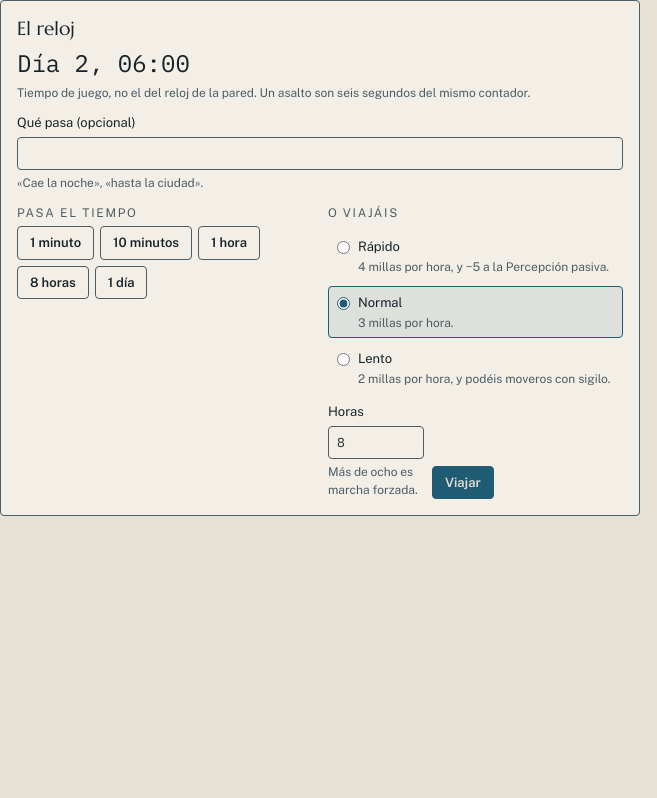
Test: las salvaciones de marcha forzada se piden › **una petición por salvación y por personaje**, cada una con SU CD
Click the button "Viajar".
click(463, 483)  # box [432,466,494,499]
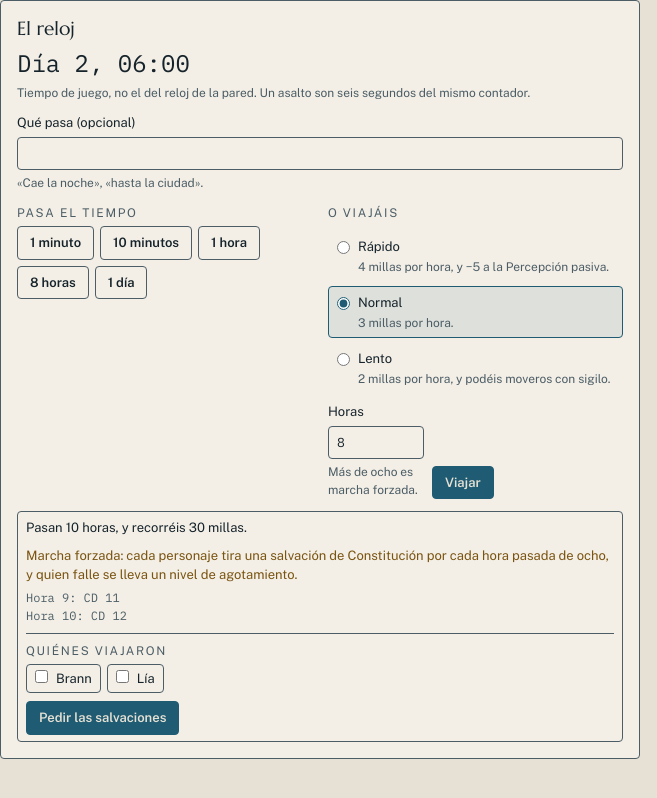
Check: the list item "Hora 9: CD 11" is shown, box [26,590,120,605]
Click the checkbox labelled "Brann".
click(42, 676)  # box [35,670,48,683]
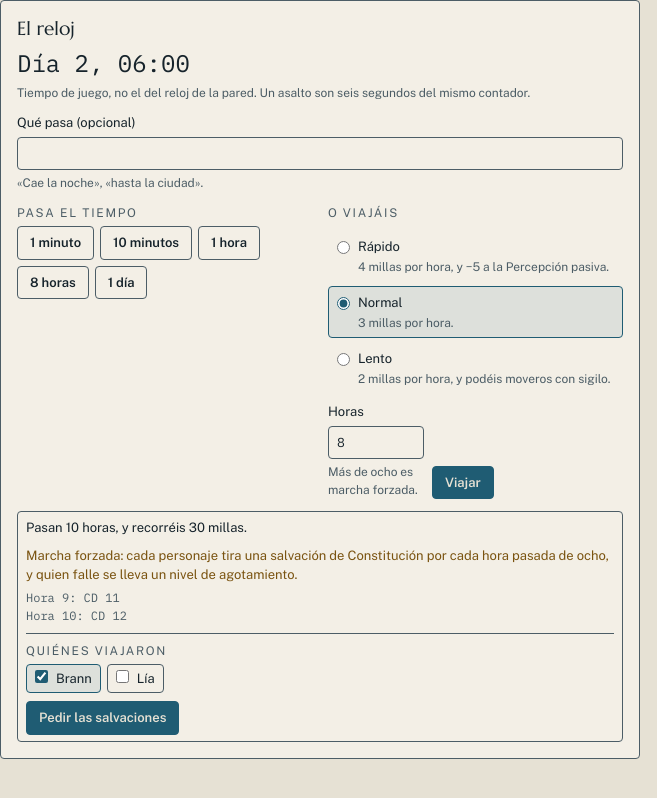
Click the checkbox labelled "Lía".
click(122, 676)  # box [116,670,129,683]
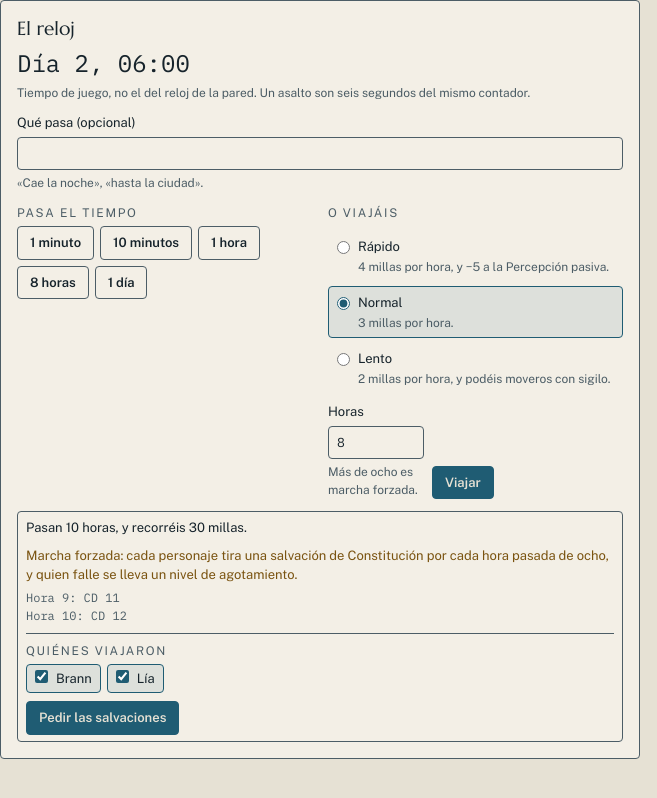
Click the button "Pedir las salvaciones".
click(103, 718)  # box [26,701,179,735]
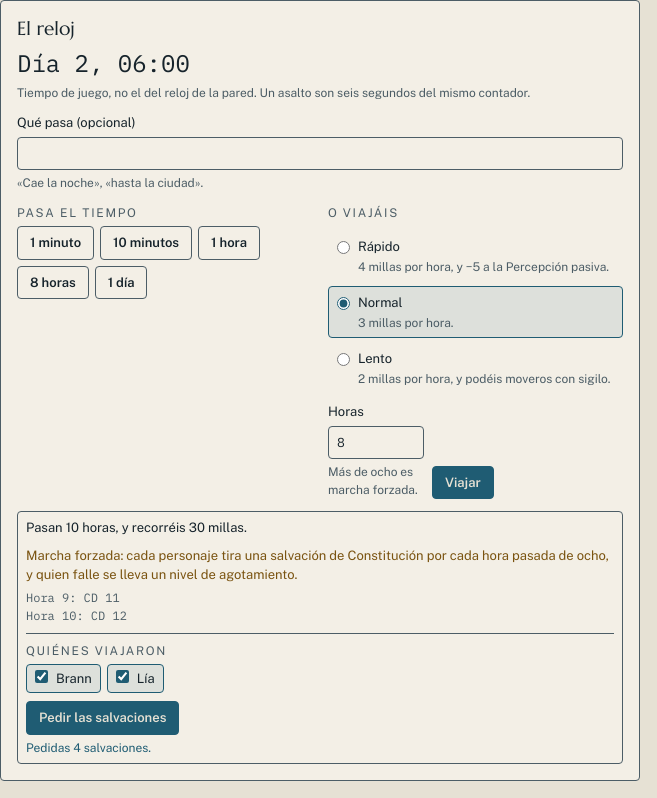
Check: the text "Pedidas 4 salvaciones." is shown, box [26,741,151,755]
